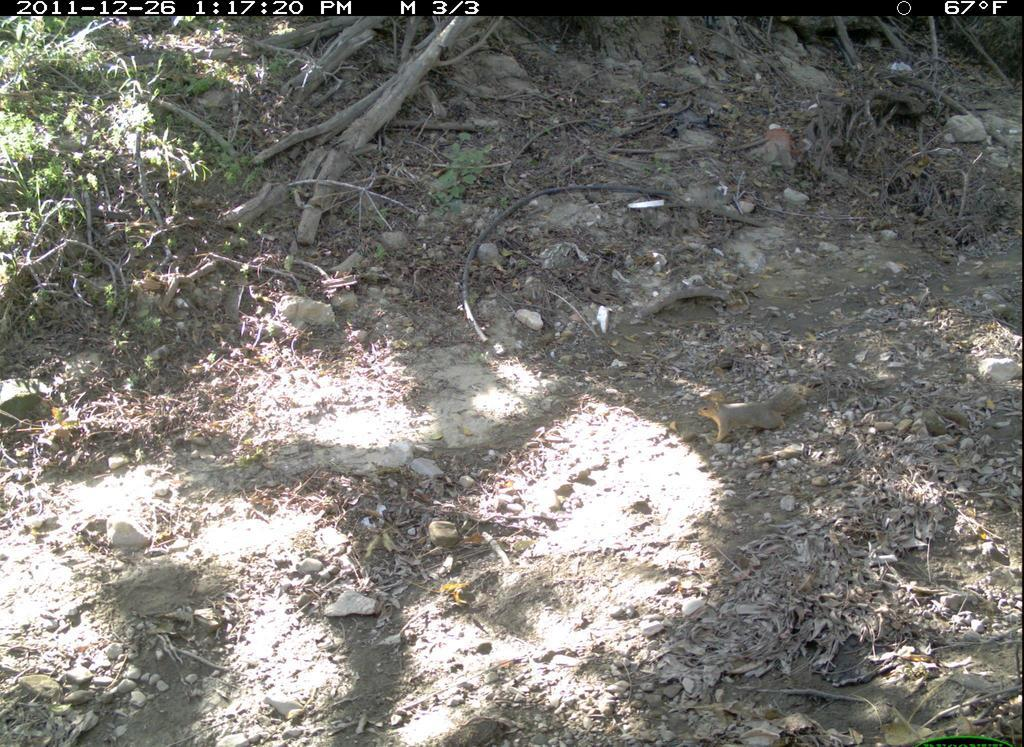squirrel: (685, 379, 815, 450)
